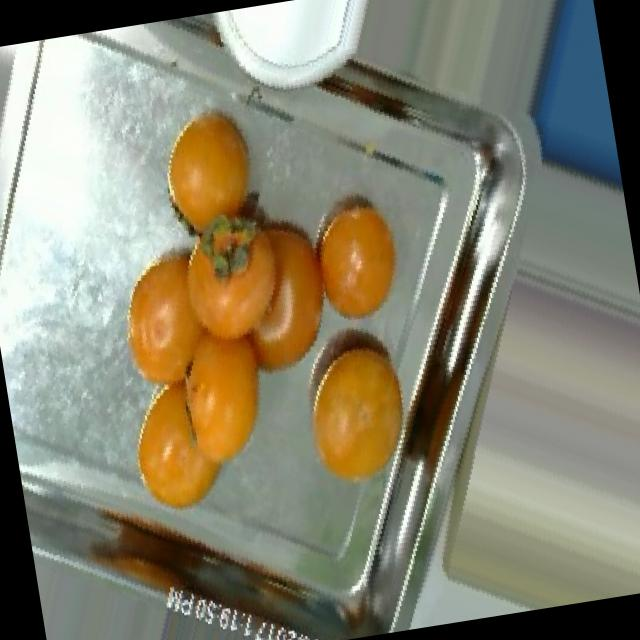Fruit: (95, 318, 304, 542), (269, 297, 434, 521), (90, 215, 266, 412), (140, 84, 289, 272), (288, 162, 435, 350)
